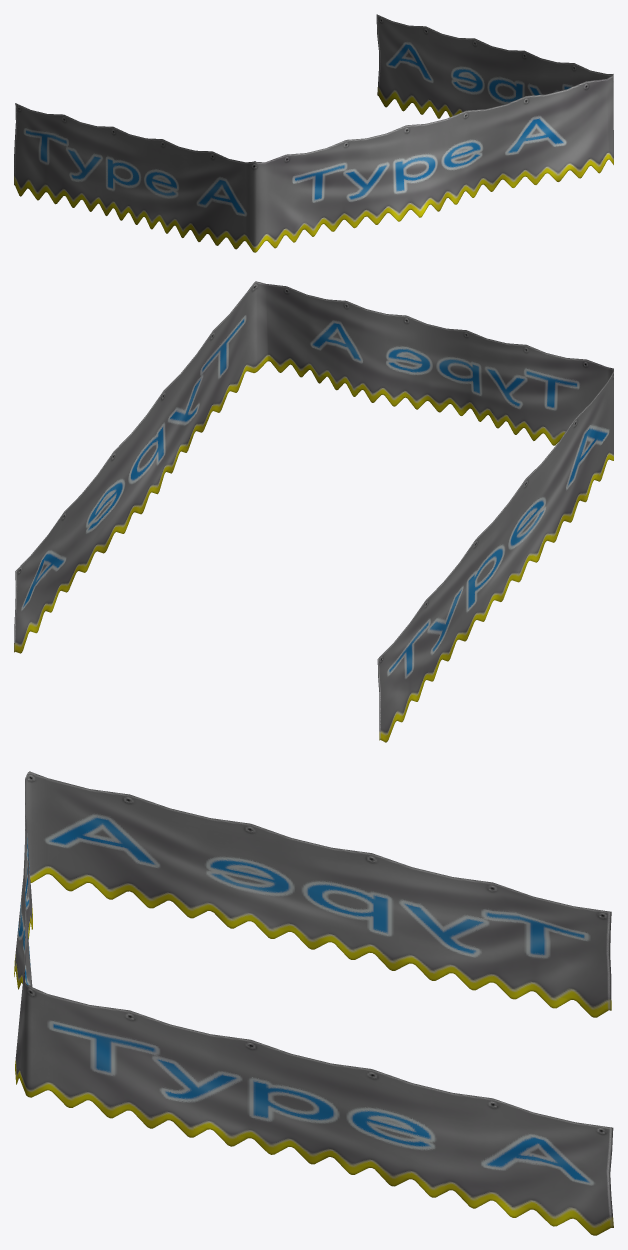
Rendered from jsf_ShopCurtain_a_s01.fbx.
3 renders of one model, top to bottom at view 1: azimuth 30°, elevation 25°; view 2: azimuth 150°, elevation 25°; view 3: azimuth 270°, elevation 25°, orthographic. The views are drawn at different scales.
Parts seen in each view (by area): view 1: jsf_ShopCurtain_a_s01; view 2: jsf_ShopCurtain_a_s01; view 3: jsf_ShopCurtain_a_s01.
Boxes of the visible parts, box(x1,y1,x2,y2) form: jsf_ShopCurtain_a_s01: box(14, 14, 613, 252); jsf_ShopCurtain_a_s01: box(14, 281, 613, 742); jsf_ShopCurtain_a_s01: box(14, 771, 613, 1235).
Size of the model in its own units: 189 by 98.97 by 216.
